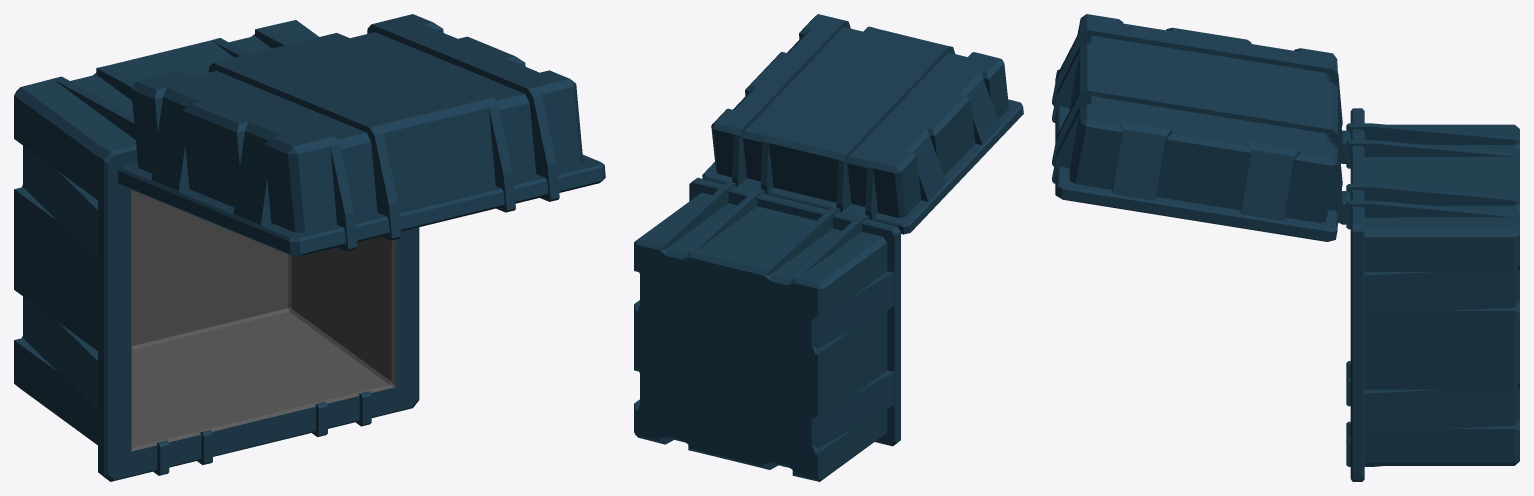
File: AttachmentBoxSight.glb
3 renders of one model, left to right at view 1: azimuth 30°, elevation 25°; view 2: azimuth 150°, elevation 25°; view 3: azimuth 270°, elevation 25°, orthographic. The views are drawn at different scales.
Parts seen in each view (by area): view 1: AttachmentBoxSight; view 2: AttachmentBoxSight; view 3: AttachmentBoxSight.
Part boxes in pixels (x1=…): AttachmentBoxSight: x1=14, y1=14, x2=605, y2=481; AttachmentBoxSight: x1=634, y1=14, x2=1023, y2=481; AttachmentBoxSight: x1=1052, y1=14, x2=1519, y2=481.
Bounding box in the file's own units: 0.656 × 0.9145 × 1.08.
Materials: 1 (1 with a texture image).
